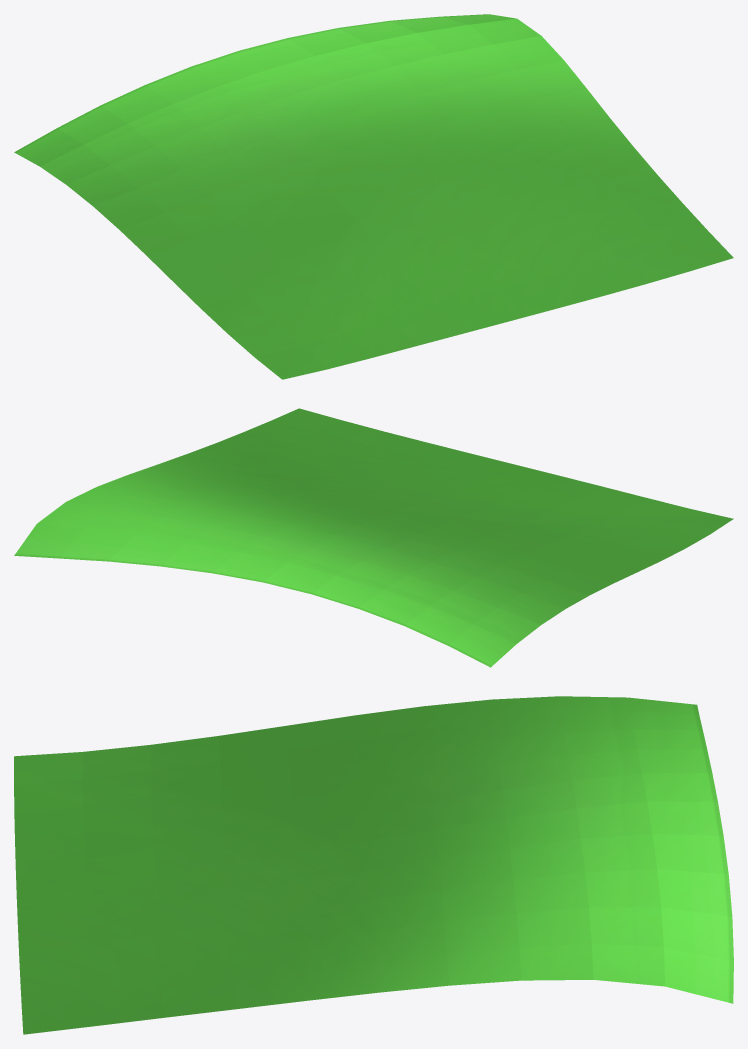
The model's file is ground_1_0.glb.
3 views of the same model, one above another, from view 1: azimuth 30°, elevation 25°; view 2: azimuth 150°, elevation 25°; view 3: azimuth 270°, elevation 25° (orthographic). The views are drawn at different scales.
Parts seen in each view (by area): view 1: Ground_1_0; view 2: Ground_1_0; view 3: Ground_1_0.
Part boxes in pixels (x1,y1,x2,y2): Ground_1_0: (14, 14, 733, 379); Ground_1_0: (14, 408, 733, 667); Ground_1_0: (14, 696, 733, 1034).
Bounding box in the file's own units: 98.49 × 14.75 × 96.01.
1 material, 1 textured.
